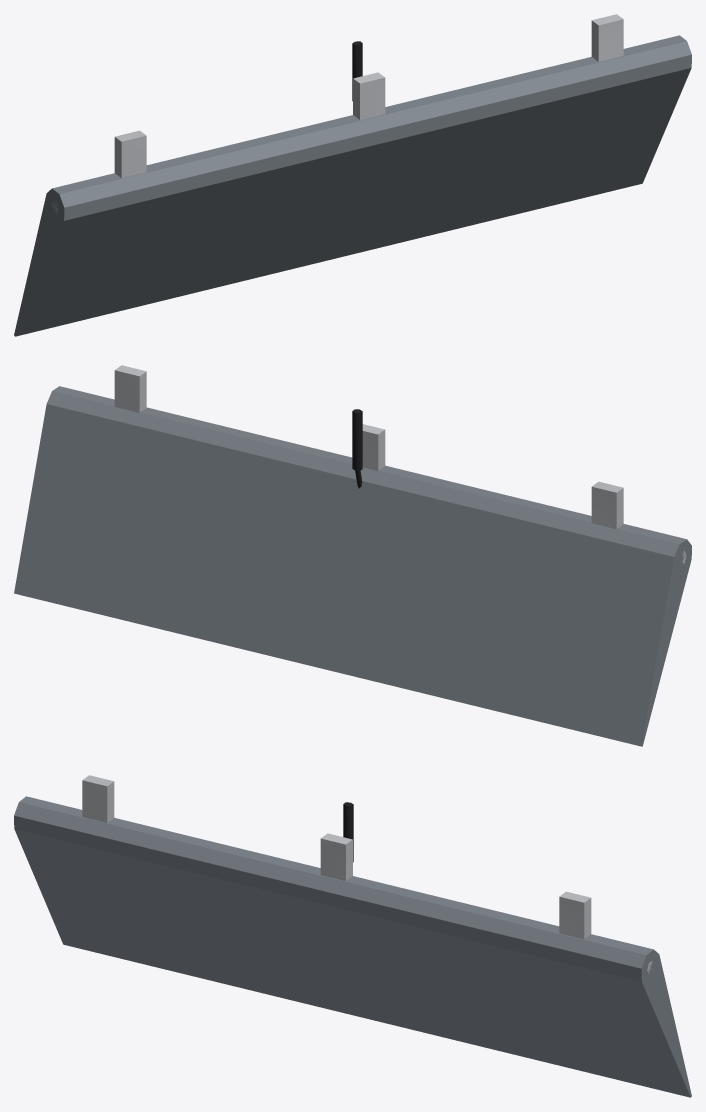
The model's file is jet09_control_surface_elevon_s_defl_pos.glb.
3 renders of one model, top to bottom at view 1: azimuth 30°, elevation 25°; view 2: azimuth 150°, elevation 25°; view 3: azimuth 330°, elevation 25°, orthographic.
Visible parts, largest first — view 1: surface, hinge_fittings; view 2: surface, hinge_fittings, actuator; view 3: surface, hinge_fittings.
Boxes of the visible parts, <box> form: surface: <box>14,35,691,336</box>; hinge_fittings: <box>52,14,623,213</box>; surface: <box>14,386,691,746</box>; hinge_fittings: <box>114,365,686,563</box>; actuator: <box>352,409,362,488</box>; surface: <box>14,796,691,1097</box>; hinge_fittings: <box>82,775,652,973</box>.
Size of the model in its own units: 1.5 by 0.5435 by 0.2084.
Materials: 3 (1 with a texture image).
